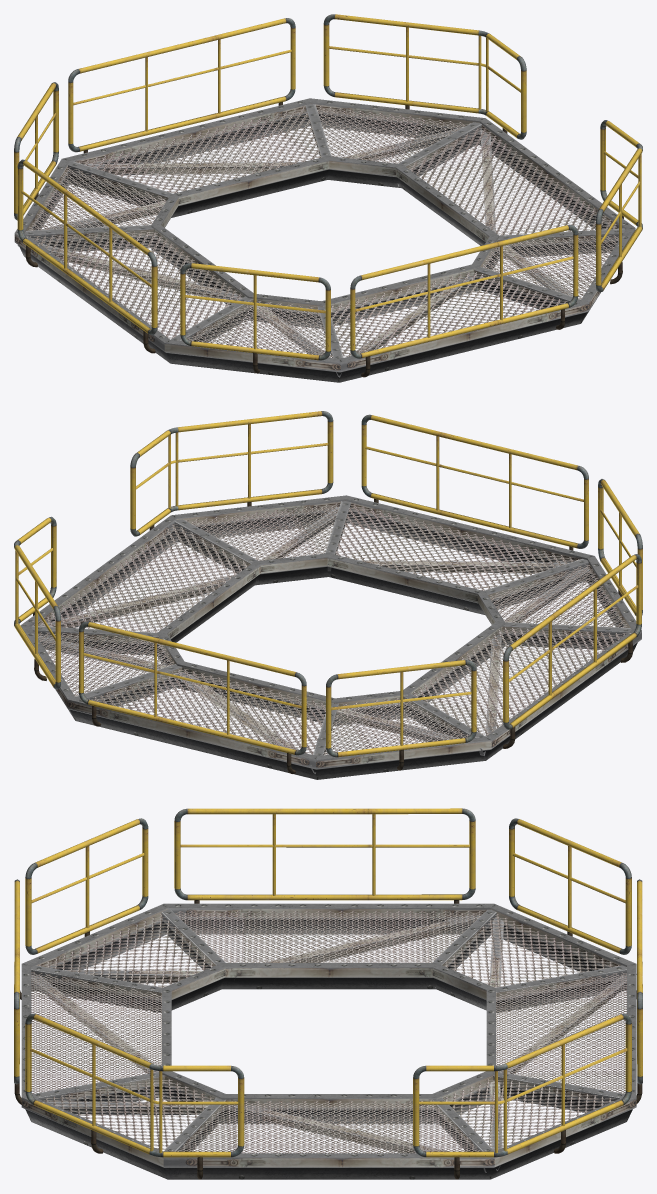
The model's file is FLO_Walkway_Grills_Ring.FBX.
The picture shows the model from 3 angles, top to bottom: view 1: azimuth 30°, elevation 25°; view 2: azimuth 150°, elevation 25°; view 3: azimuth 270°, elevation 25°; orthographic projection. The views are drawn at different scales.
Visible parts, largest first — view 1: FLO_Walkway_Grills_Ring_Floors, FLO_Walkway_Grills_Ring_Banister; view 2: FLO_Walkway_Grills_Ring_Floors, FLO_Walkway_Grills_Ring_Banister; view 3: FLO_Walkway_Grills_Ring_Floors, FLO_Walkway_Grills_Ring_Banister.
Boxes of the visible parts, x1=… form: FLO_Walkway_Grills_Ring_Floors: x1=14, y1=98, x2=635, y2=382; FLO_Walkway_Grills_Ring_Banister: x1=14, y1=14, x2=642, y2=377; FLO_Walkway_Grills_Ring_Floors: x1=20, y1=495, x2=641, y2=779; FLO_Walkway_Grills_Ring_Banister: x1=14, y1=411, x2=642, y2=773; FLO_Walkway_Grills_Ring_Floors: x1=21, y1=903, x2=636, y2=1179; FLO_Walkway_Grills_Ring_Banister: x1=14, y1=808, x2=642, y2=1179.
Size of the model in its own units: 595 by 128 by 609.
Materials: 2 (2 with a texture image).
